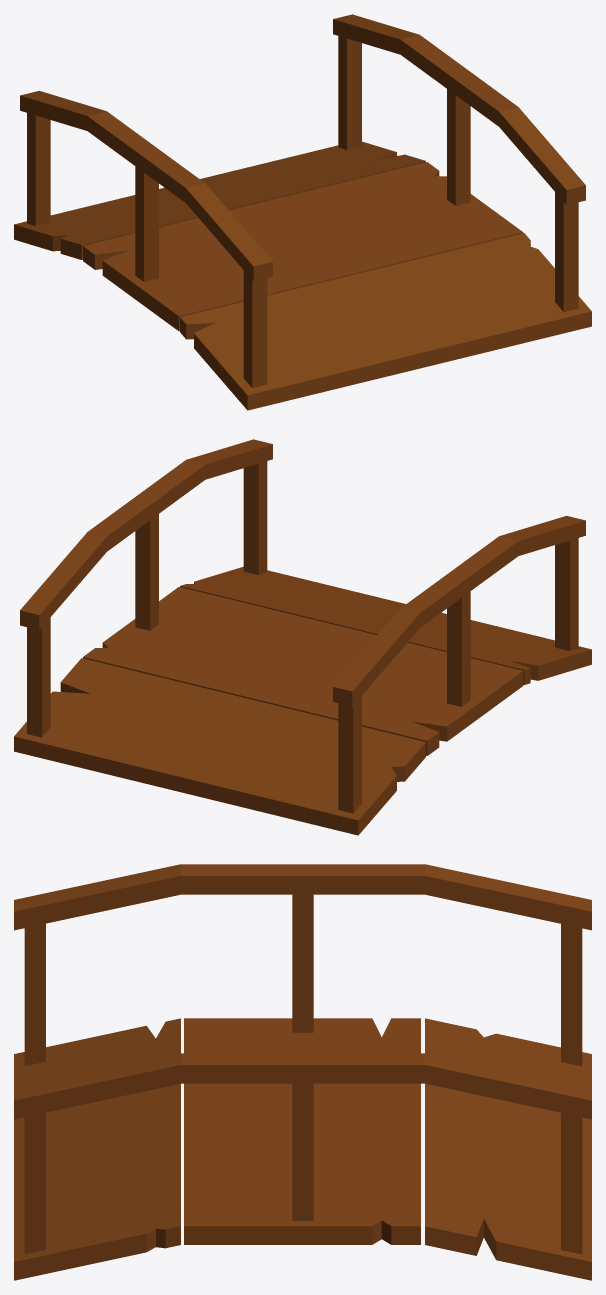
Rendered from Bridge.glb.
3 renders of one model, top to bottom at view 1: azimuth 30°, elevation 25°; view 2: azimuth 150°, elevation 25°; view 3: azimuth 270°, elevation 25°, orthographic. The views are drawn at different scales.
Parts seen in each view (by area): view 1: Cube.020; view 2: Cube.020; view 3: Cube.020.
Boxes of the visible parts, x1,y1,x2,y2 form: Cube.020: [14, 14, 591, 410]; Cube.020: [14, 439, 591, 835]; Cube.020: [14, 864, 591, 1280].
Size of the model in its own units: 1.7 by 0.8106 by 2.
1 material, 1 textured.
